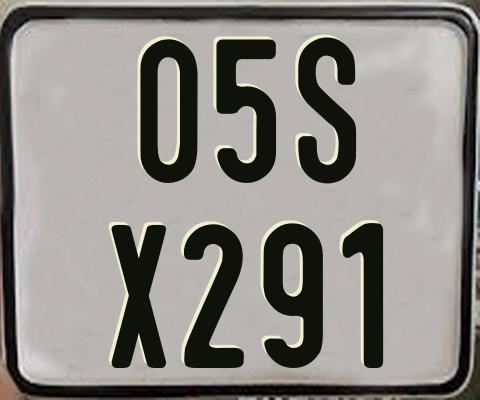0: (137, 36, 201, 181)
1: (341, 220, 382, 367)
2: (181, 224, 243, 372)
5: (213, 37, 278, 184)
9: (263, 221, 325, 366)
S: (298, 34, 358, 181)
X: (110, 222, 168, 365)
